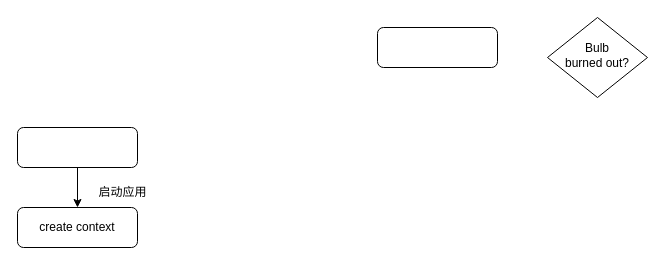
The diagram is 665 pixels wide and 265 high, and some of its shapes have lost their labels. The centre of each missing label's shape, as x and y in pixels:
"Repair Lamp" belongs at pixel 437 47.
"SpringApplication#run" belongs at pixel 77 147.
